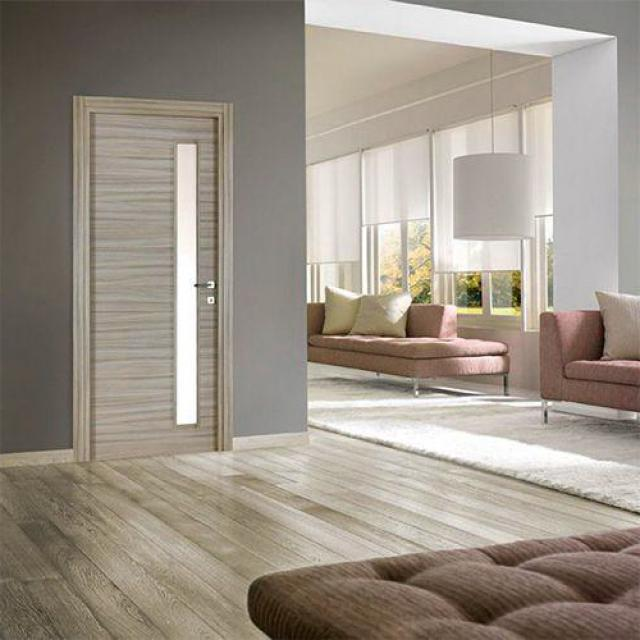door: (73, 91, 243, 467)
